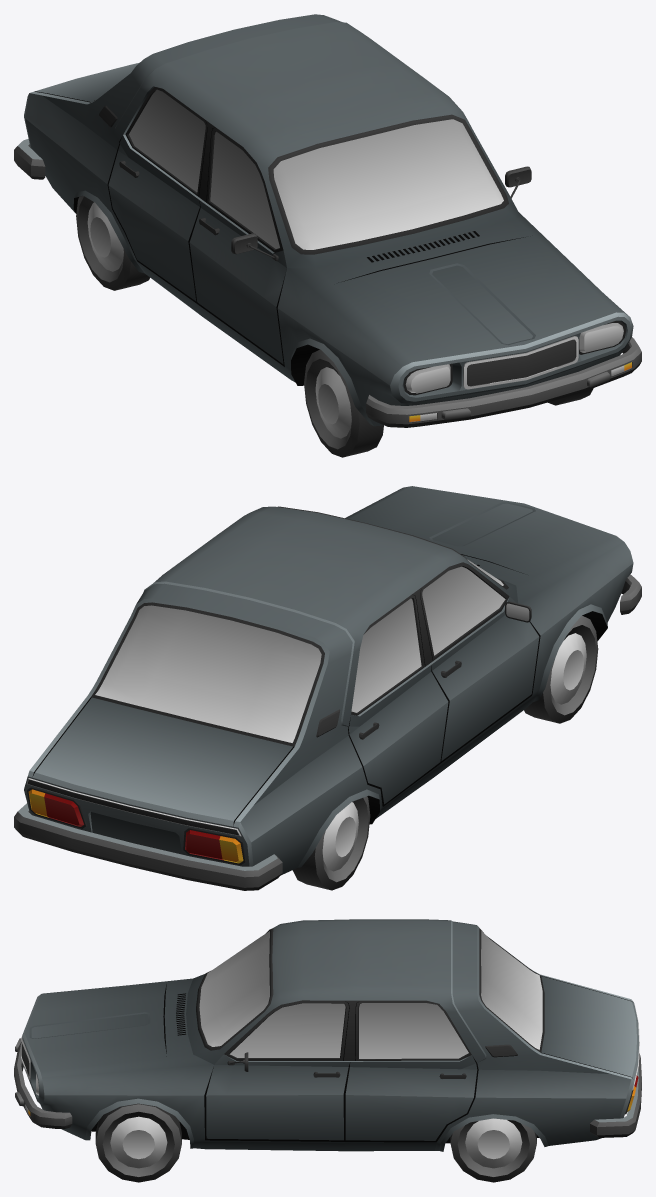
The model's file is toros.glb.
3 views of the same model, one above another, from view 1: azimuth 30°, elevation 25°; view 2: azimuth 150°, elevation 25°; view 3: azimuth 270°, elevation 25° (orthographic). The views are drawn at different scales.
Parts seen in each view (by area): view 1: Body, FRW, BLW.004; view 2: Body, FRW, BLW.004; view 3: Body, FLW, RLW.
Part boxes in pixels (box(x1,y1,x2,y2)): Body: box(14, 14, 641, 427); FRW: box(304, 349, 383, 457); BLW.004: box(76, 196, 149, 290); Body: box(14, 486, 641, 890); FRW: box(524, 615, 598, 723); BLW.004: box(292, 796, 370, 890); Body: box(14, 919, 641, 1151); FLW: box(95, 1103, 181, 1182); RLW: box(450, 1118, 536, 1182).
Bounding box in the file's own units: 249 × 191 × 580.
Materials: 1 (1 with a texture image).
